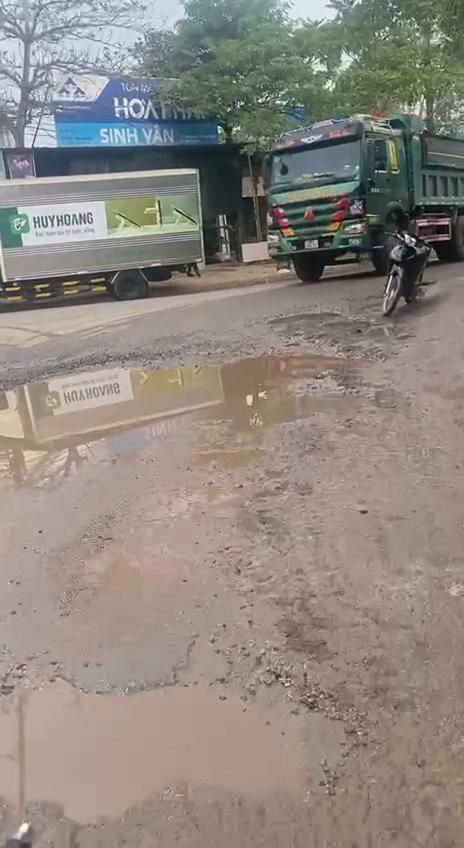pothole: (0, 328, 387, 508), (0, 648, 383, 827)
